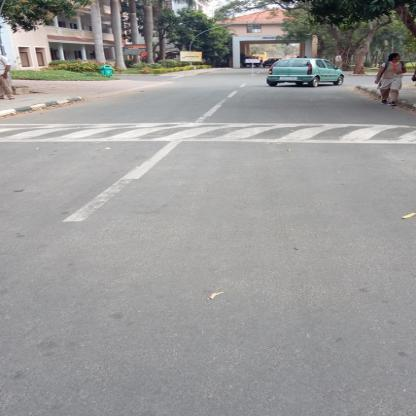speed-bumps: (1, 117, 415, 150)
